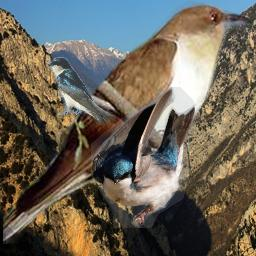Cuckoo: (3, 1, 255, 244)
Swallow: (91, 87, 196, 228), (47, 57, 116, 124)
